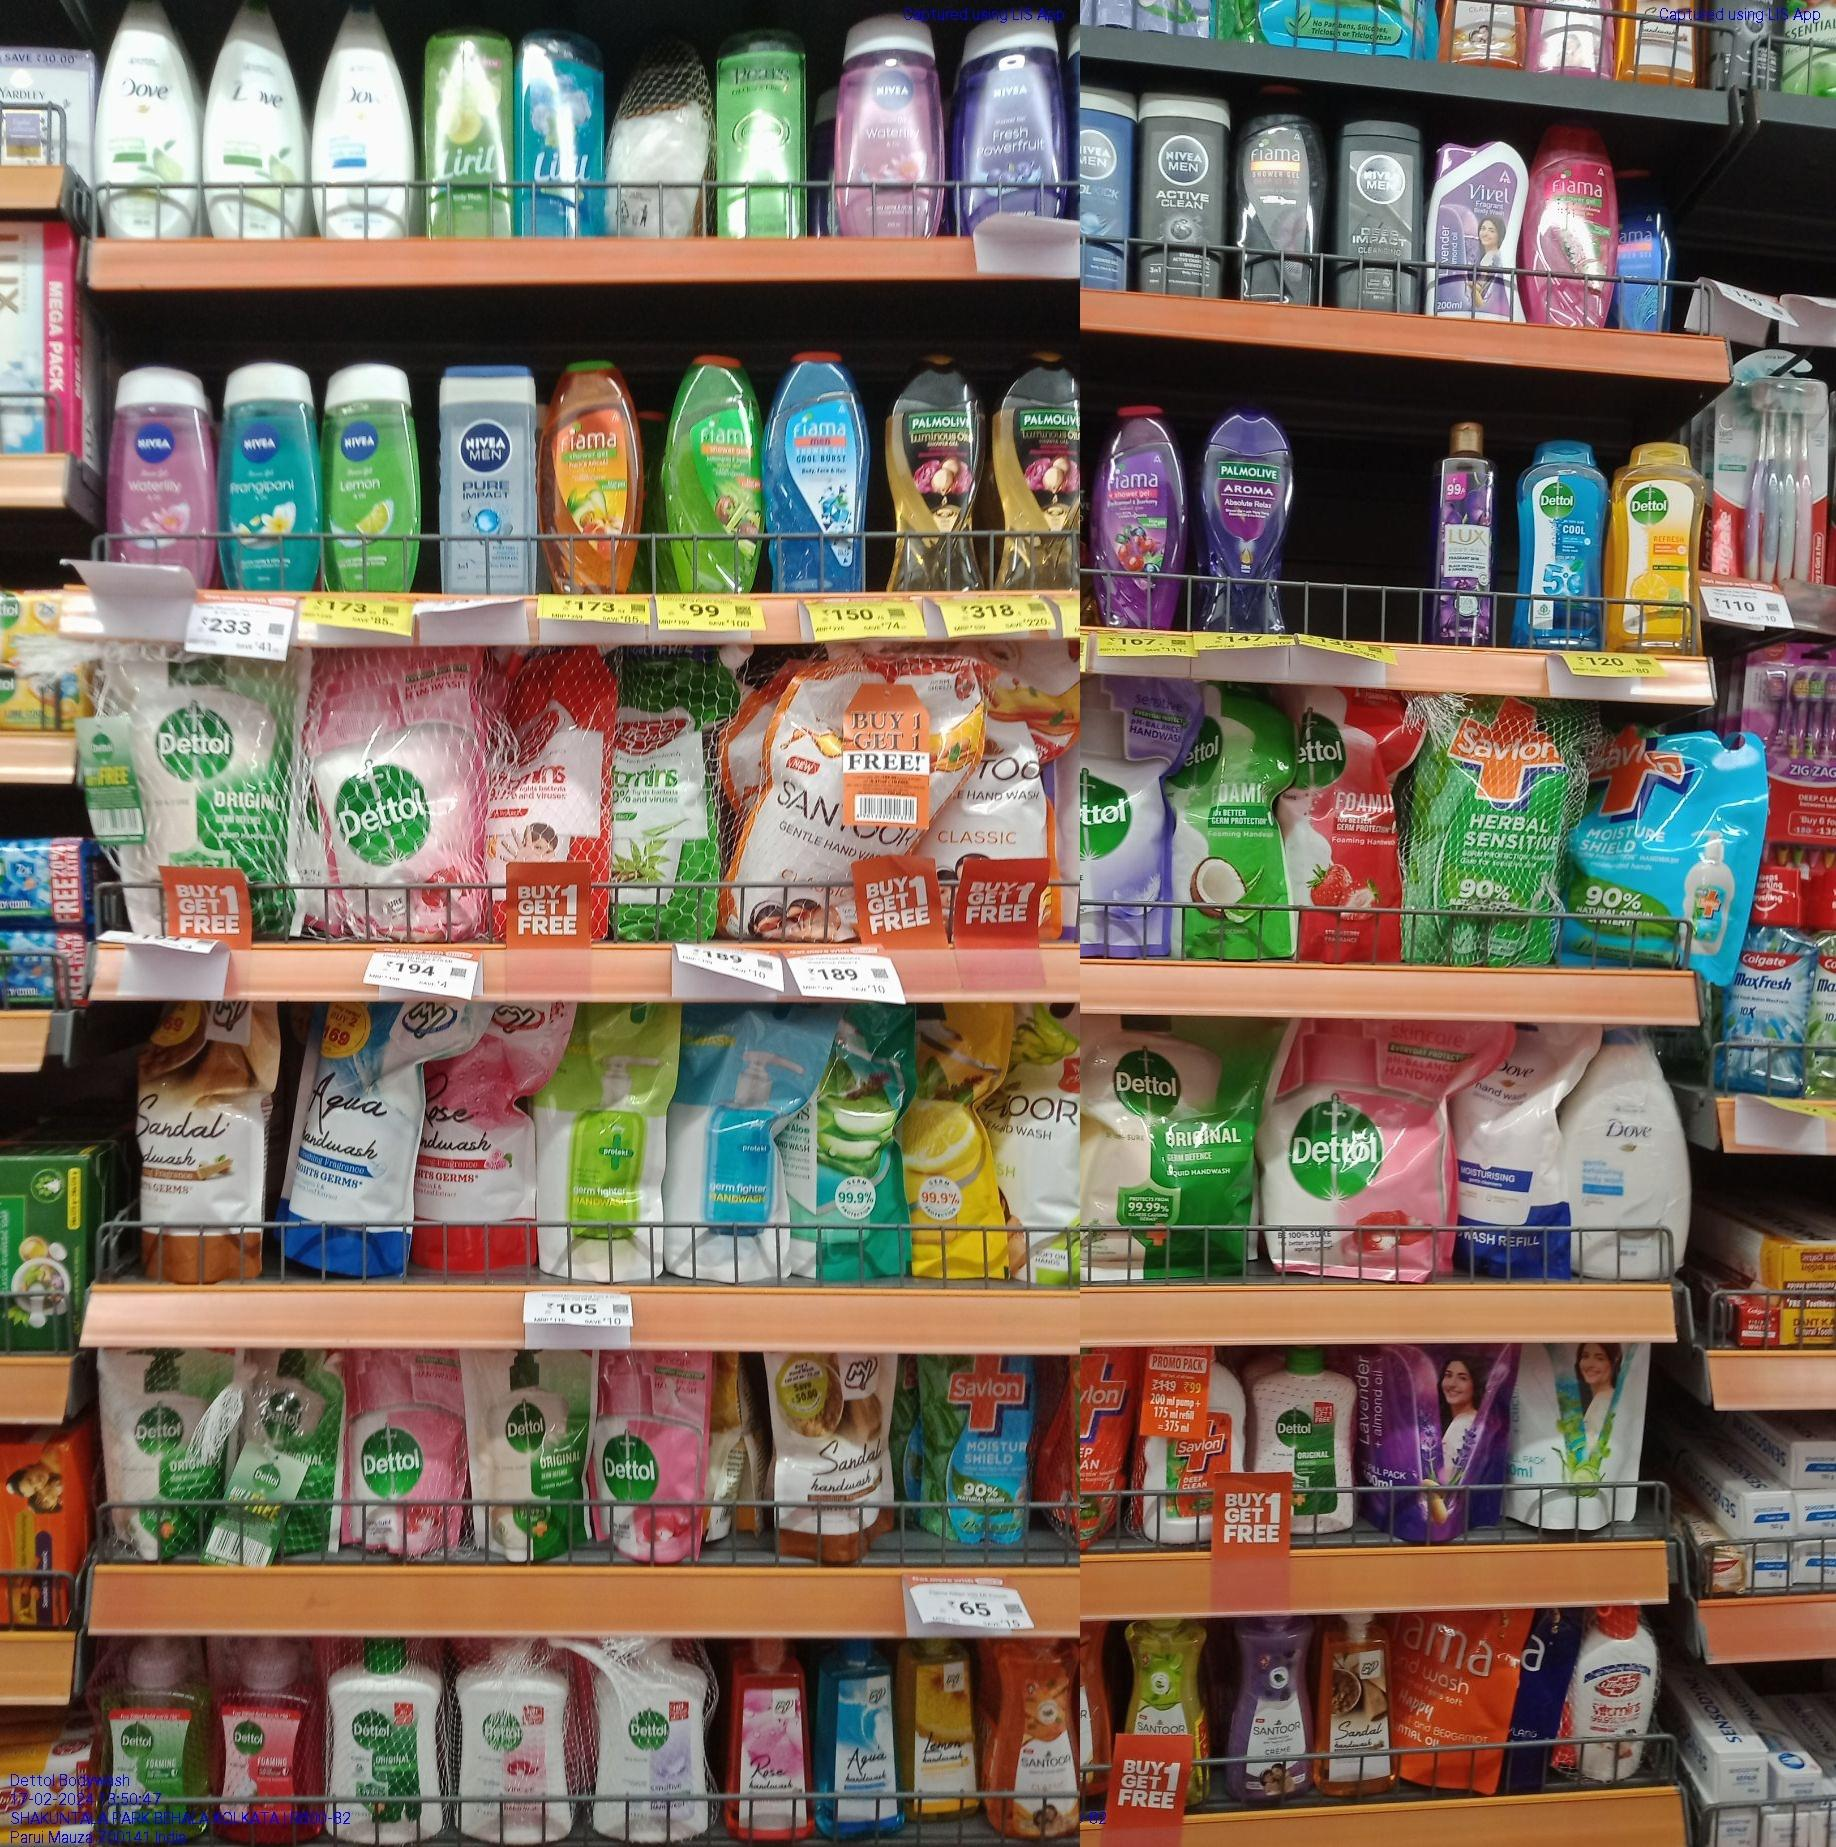Dettol_Bodywash_Cool: (1513, 442, 1606, 650)
Dettol_Bodywash_Refresh: (1609, 440, 1707, 652)
Dove_Gentle_Exfoliating_Body_Wash_250ML: (308, 2, 417, 240)
Dove_Refreshing_Body_Wash_250ML: (92, 2, 195, 234), (207, 3, 303, 234)
Fiama_Shower_Gel_Lemongrass_and_Jojoba_250ML: (664, 355, 763, 590)
Fiama_Shower_Gel_Peach_and_Avocado_250ML: (540, 365, 637, 592)
Liril_Cooling_Mint_Body_Wash_250ML: (521, 7, 610, 237)
Liril_Lime_and_Tea_Tree_Oil_Body_Wash_250ML: (425, 7, 516, 237)
Lux_Black_Orchid_Scent_and_Juniper_Oil_Body_Wash_245ML: (1432, 422, 1496, 642)
Nivea_Shower_Gel_Frangipani_and_Oil_250ML: (220, 363, 318, 588)
Nivea_Shower_Gel_Fresh_Powerfruit_250ML: (958, 13, 1066, 215)
Nivea_Shower_Gel_Lemon_and_Oil_250ML: (326, 361, 419, 597)
Nivea_Shower_Gel_Waterlily_and_Oil_250ML: (836, 13, 943, 235), (104, 371, 212, 580)
Palmolive_Aroma_Relax_250ML: (1199, 408, 1291, 635)
Palmolive_Luminous_Oils_Invigorating_Macadamia_Oil_With_Peony_250ML: (888, 351, 985, 592)
Pears_Pure_Glycerin_and_Lemon_Flower_Extracts_Body_Wash_250ML: (718, 13, 802, 239)
